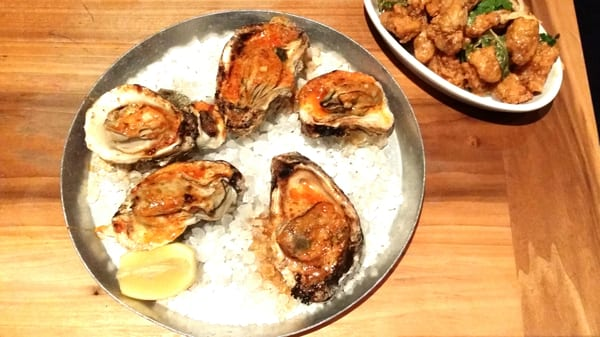sushi: (16, 7, 424, 331), (362, 0, 564, 125)
